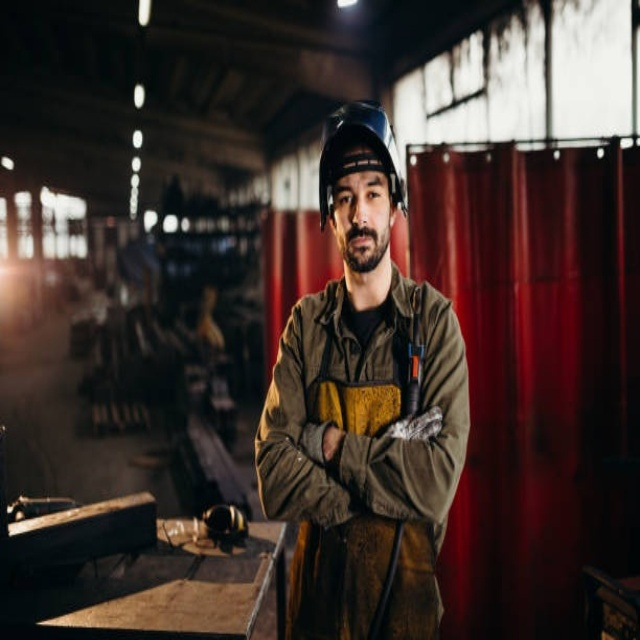Guantes: (298, 405, 339, 464), (387, 400, 442, 436)
Sin_gafas: (339, 174, 383, 210)
Sin_mascara: (344, 226, 376, 257)
